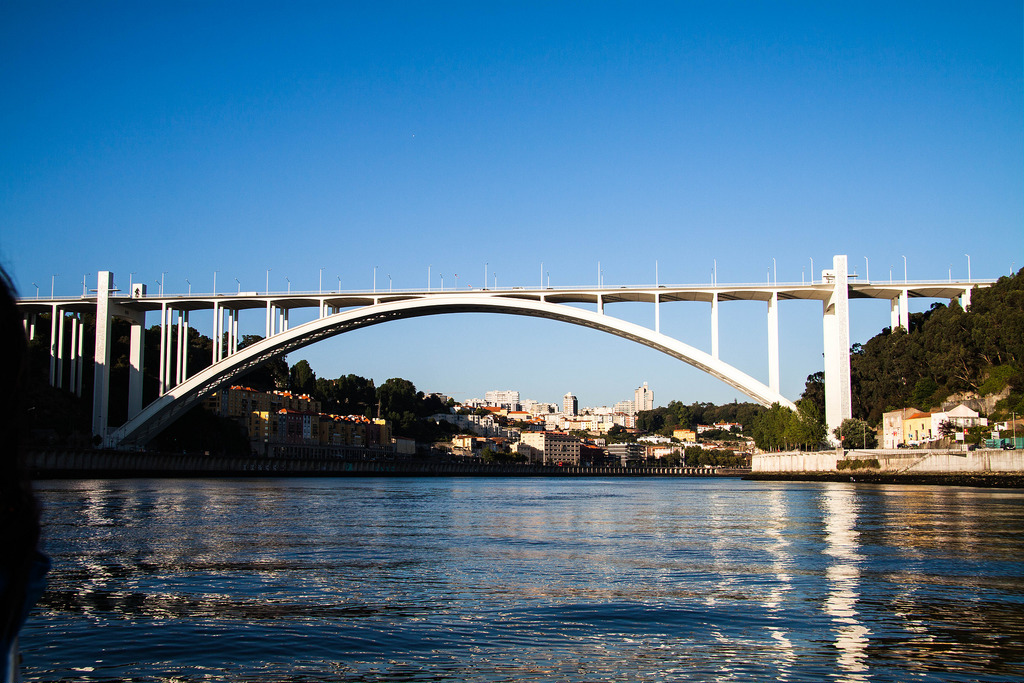arrabida: (0, 251, 1001, 451)
